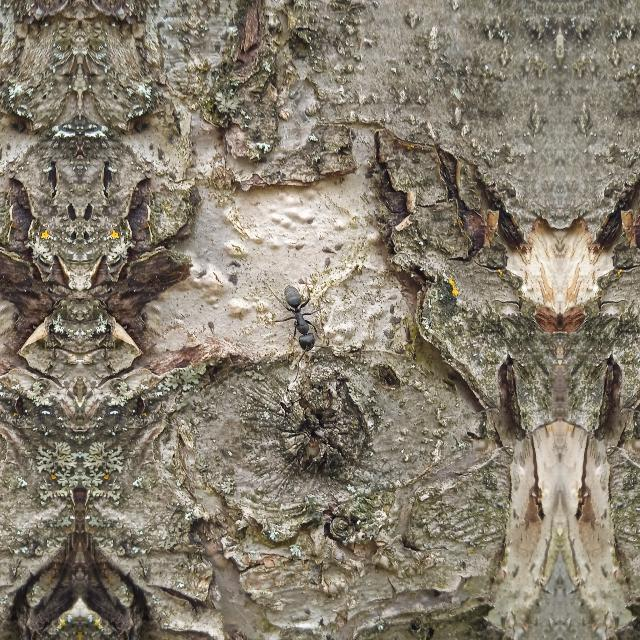Camponotus: (269, 276, 337, 354)
